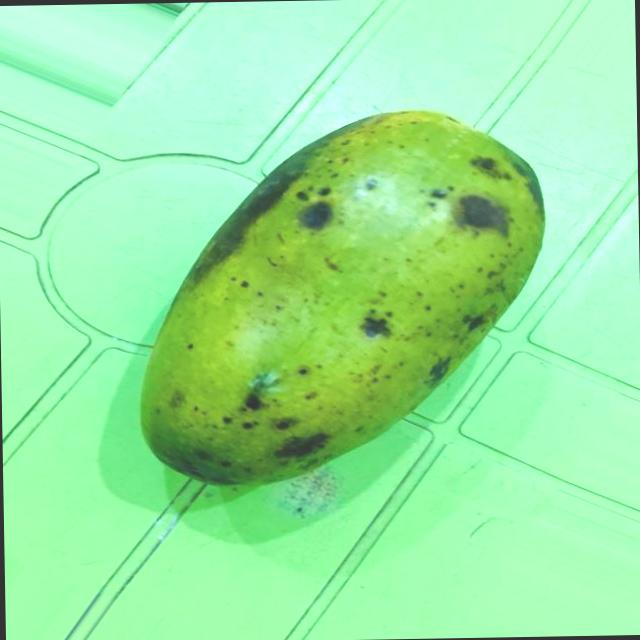Mango: (134, 103, 556, 484)
